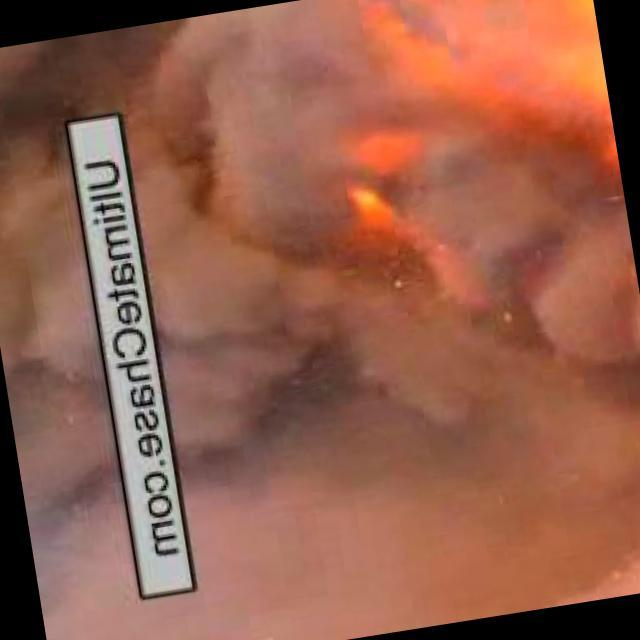Fire: (286, 1, 630, 278)
